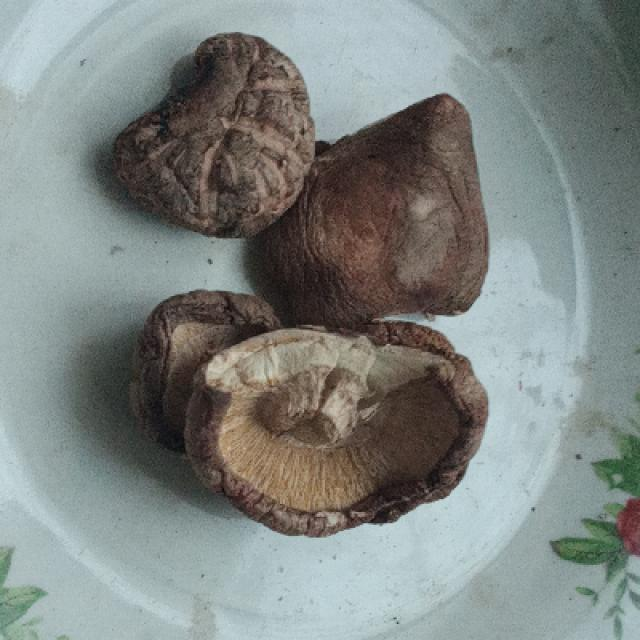Lentinus edodes: (179, 322, 490, 537), (271, 95, 495, 332), (117, 29, 312, 225)
